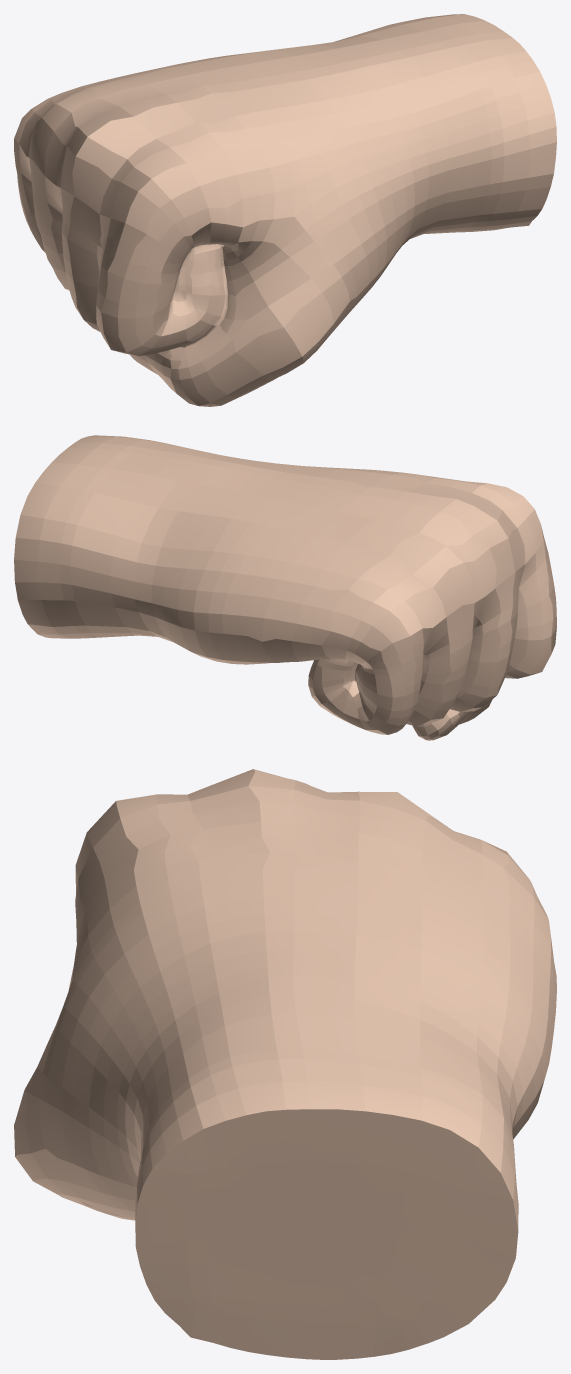
File: yumruk_reng.fbx
3 renders of one model, top to bottom at view 1: azimuth 30°, elevation 25°; view 2: azimuth 150°, elevation 25°; view 3: azimuth 270°, elevation 25°, orthographic. The views are drawn at different scales.
Parts seen in each view (by area): view 1: yumruk1; view 2: yumruk1; view 3: yumruk1.
Part boxes in pixels (<box>): yumruk1: <box>14,14,556,406</box>; yumruk1: <box>14,435,556,740</box>; yumruk1: <box>14,769,556,1359</box>.
Bounding box in the file's own units: 12.11 × 6.82 × 8.33.
